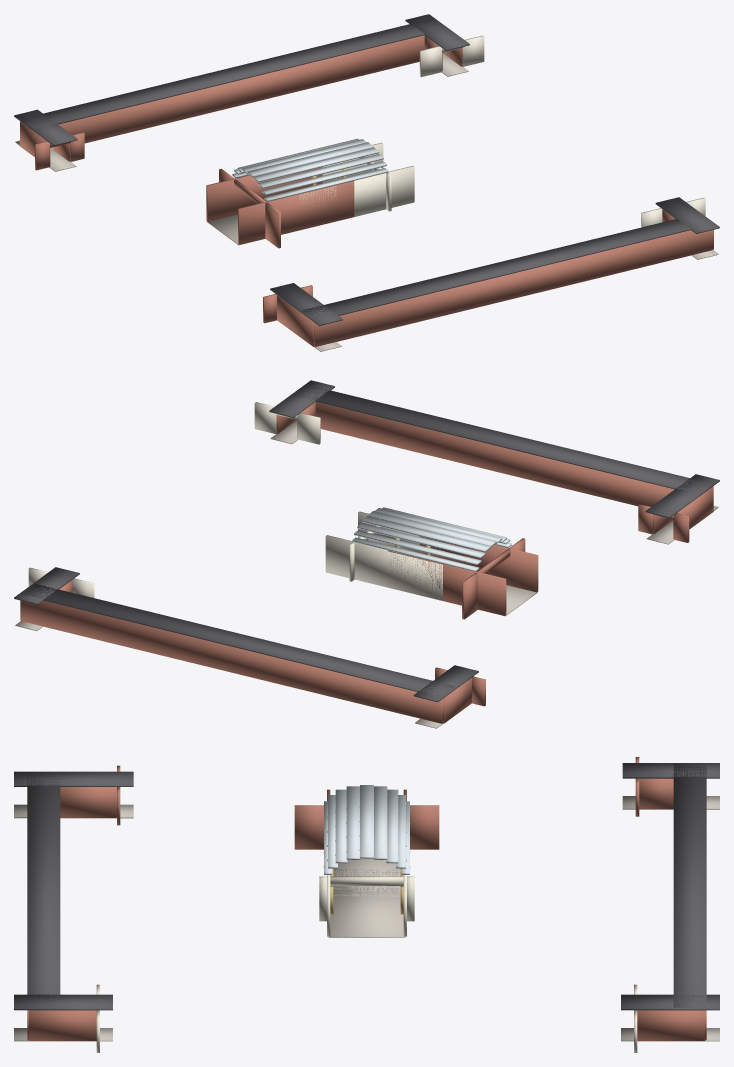
The model's file is collegamenti.glb.
3 views of the same model, one above another, from view 1: azimuth 30°, elevation 25°; view 2: azimuth 150°, elevation 25°; view 3: azimuth 270°, elevation 25° (orthographic). The views are drawn at different scales.
Visible parts, largest first — view 1: fS_o_bot, fN_i_bot, fN_roof_bot, fS_roof_bot, main_jz_muro_1, main_gl_muro_1, main_jz_muro_-1, fS_roof_ent, fS_roof_gal, fN_roof_gal, fN_roof_ent, fS_o_ent (+9 smaller); view 2: fN_o_bot, fS_i_bot, fN_roof_bot, fS_roof_bot, main_gl_muro_-1, main_jz_muro_-1, main_jz_muro_1, fS_roof_ent, fS_roof_gal, fN_roof_ent, fN_roof_gal, volta_3 (+10 smaller); view 3: fN_roof_bot, fS_roof_bot, main_gl_pav, fN_o_gal, fS_o_gal, fS_roof_ent, fS_i_ent, fS_roof_gal, main_jz_pav, fN_roof_gal, fN_roof_ent, main_jz_cap_a (+10 smaller).
Part boxes in pixels (left/top/right/bottom): fS_o_bot: left=314, top=230, right=713, bottom=346; fN_i_bot: left=58, top=35, right=424, bottom=143; fN_roof_bot: left=21, top=18, right=445, bottom=128; fS_roof_bot: left=302, top=217, right=690, bottom=319; main_jz_muro_1: left=238, top=181, right=354, bottom=244; main_gl_muro_1: left=299, top=166, right=414, bottom=216; main_jz_muro_-1: left=206, top=167, right=322, bottom=221; fS_roof_ent: left=270, top=283, right=342, bottom=325; fS_roof_gal: left=655, top=197, right=719, bottom=233; fN_roof_gal: left=405, top=14, right=469, bottom=50; fN_roof_ent: left=14, top=109, right=77, bottom=145; fS_o_ent: left=277, top=295, right=314, bottom=346; fN_o_bot: left=20, top=600, right=442, bottom=723; fS_i_bot: left=315, top=402, right=674, bottom=506; fN_roof_bot: left=21, top=583, right=455, bottom=696; fS_roof_bot: left=293, top=384, right=711, bottom=493; main_gl_muro_-1: left=325, top=535, right=442, bottom=600; main_jz_muro_-1: left=388, top=550, right=506, bottom=615; main_jz_muro_1: left=419, top=536, right=538, bottom=592; fS_roof_ent: left=645, top=474, right=719, bottom=517; fS_roof_gal: left=269, top=380, right=334, bottom=417; fN_roof_ent: left=413, top=665, right=478, bottom=702; fN_roof_gal: left=14, top=567, right=79, bottom=604; volta_3: left=362, top=516, right=490, bottom=551; fN_roof_bot: left=673, top=763, right=706, bottom=1007; fS_roof_bot: left=27, top=772, right=60, bottom=1003; main_gl_pav: left=328, top=869, right=405, bottom=937; fN_o_gal: left=637, top=1010, right=704, bottom=1041; fS_o_gal: left=29, top=1010, right=96, bottom=1041; fS_roof_ent: left=14, top=771, right=133, bottom=786; fS_i_ent: left=60, top=787, right=116, bottom=817; fS_roof_gal: left=14, top=994, right=112, bottom=1010; main_jz_pav: left=333, top=858, right=400, bottom=900; fN_roof_gal: left=621, top=994, right=719, bottom=1010; fN_roof_ent: left=622, top=763, right=719, bottom=778; main_jz_cap_a: left=410, top=805, right=439, bottom=849.
Size of the model in its own units: 73.7 by 8.42 by 83.
